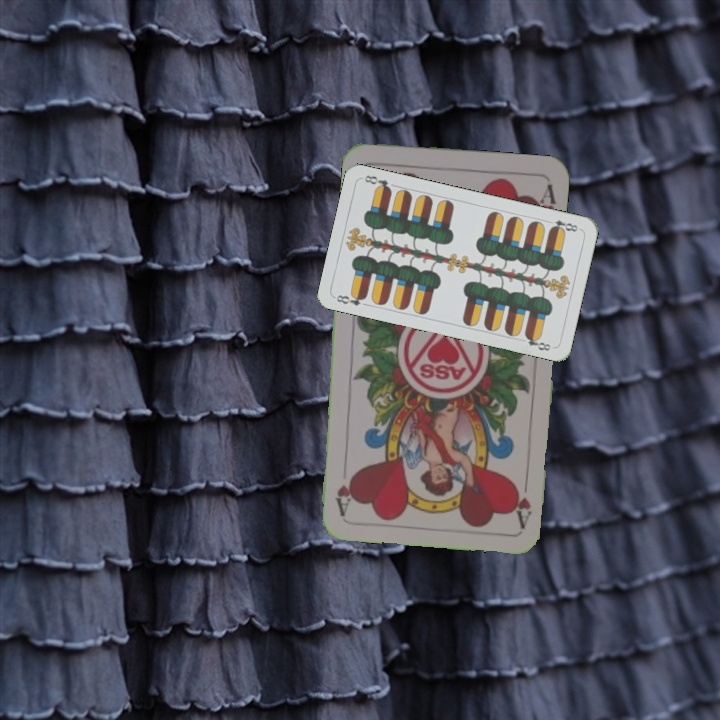E8: (543, 216, 582, 235), (332, 289, 369, 308)
HA: (508, 469, 534, 529)
